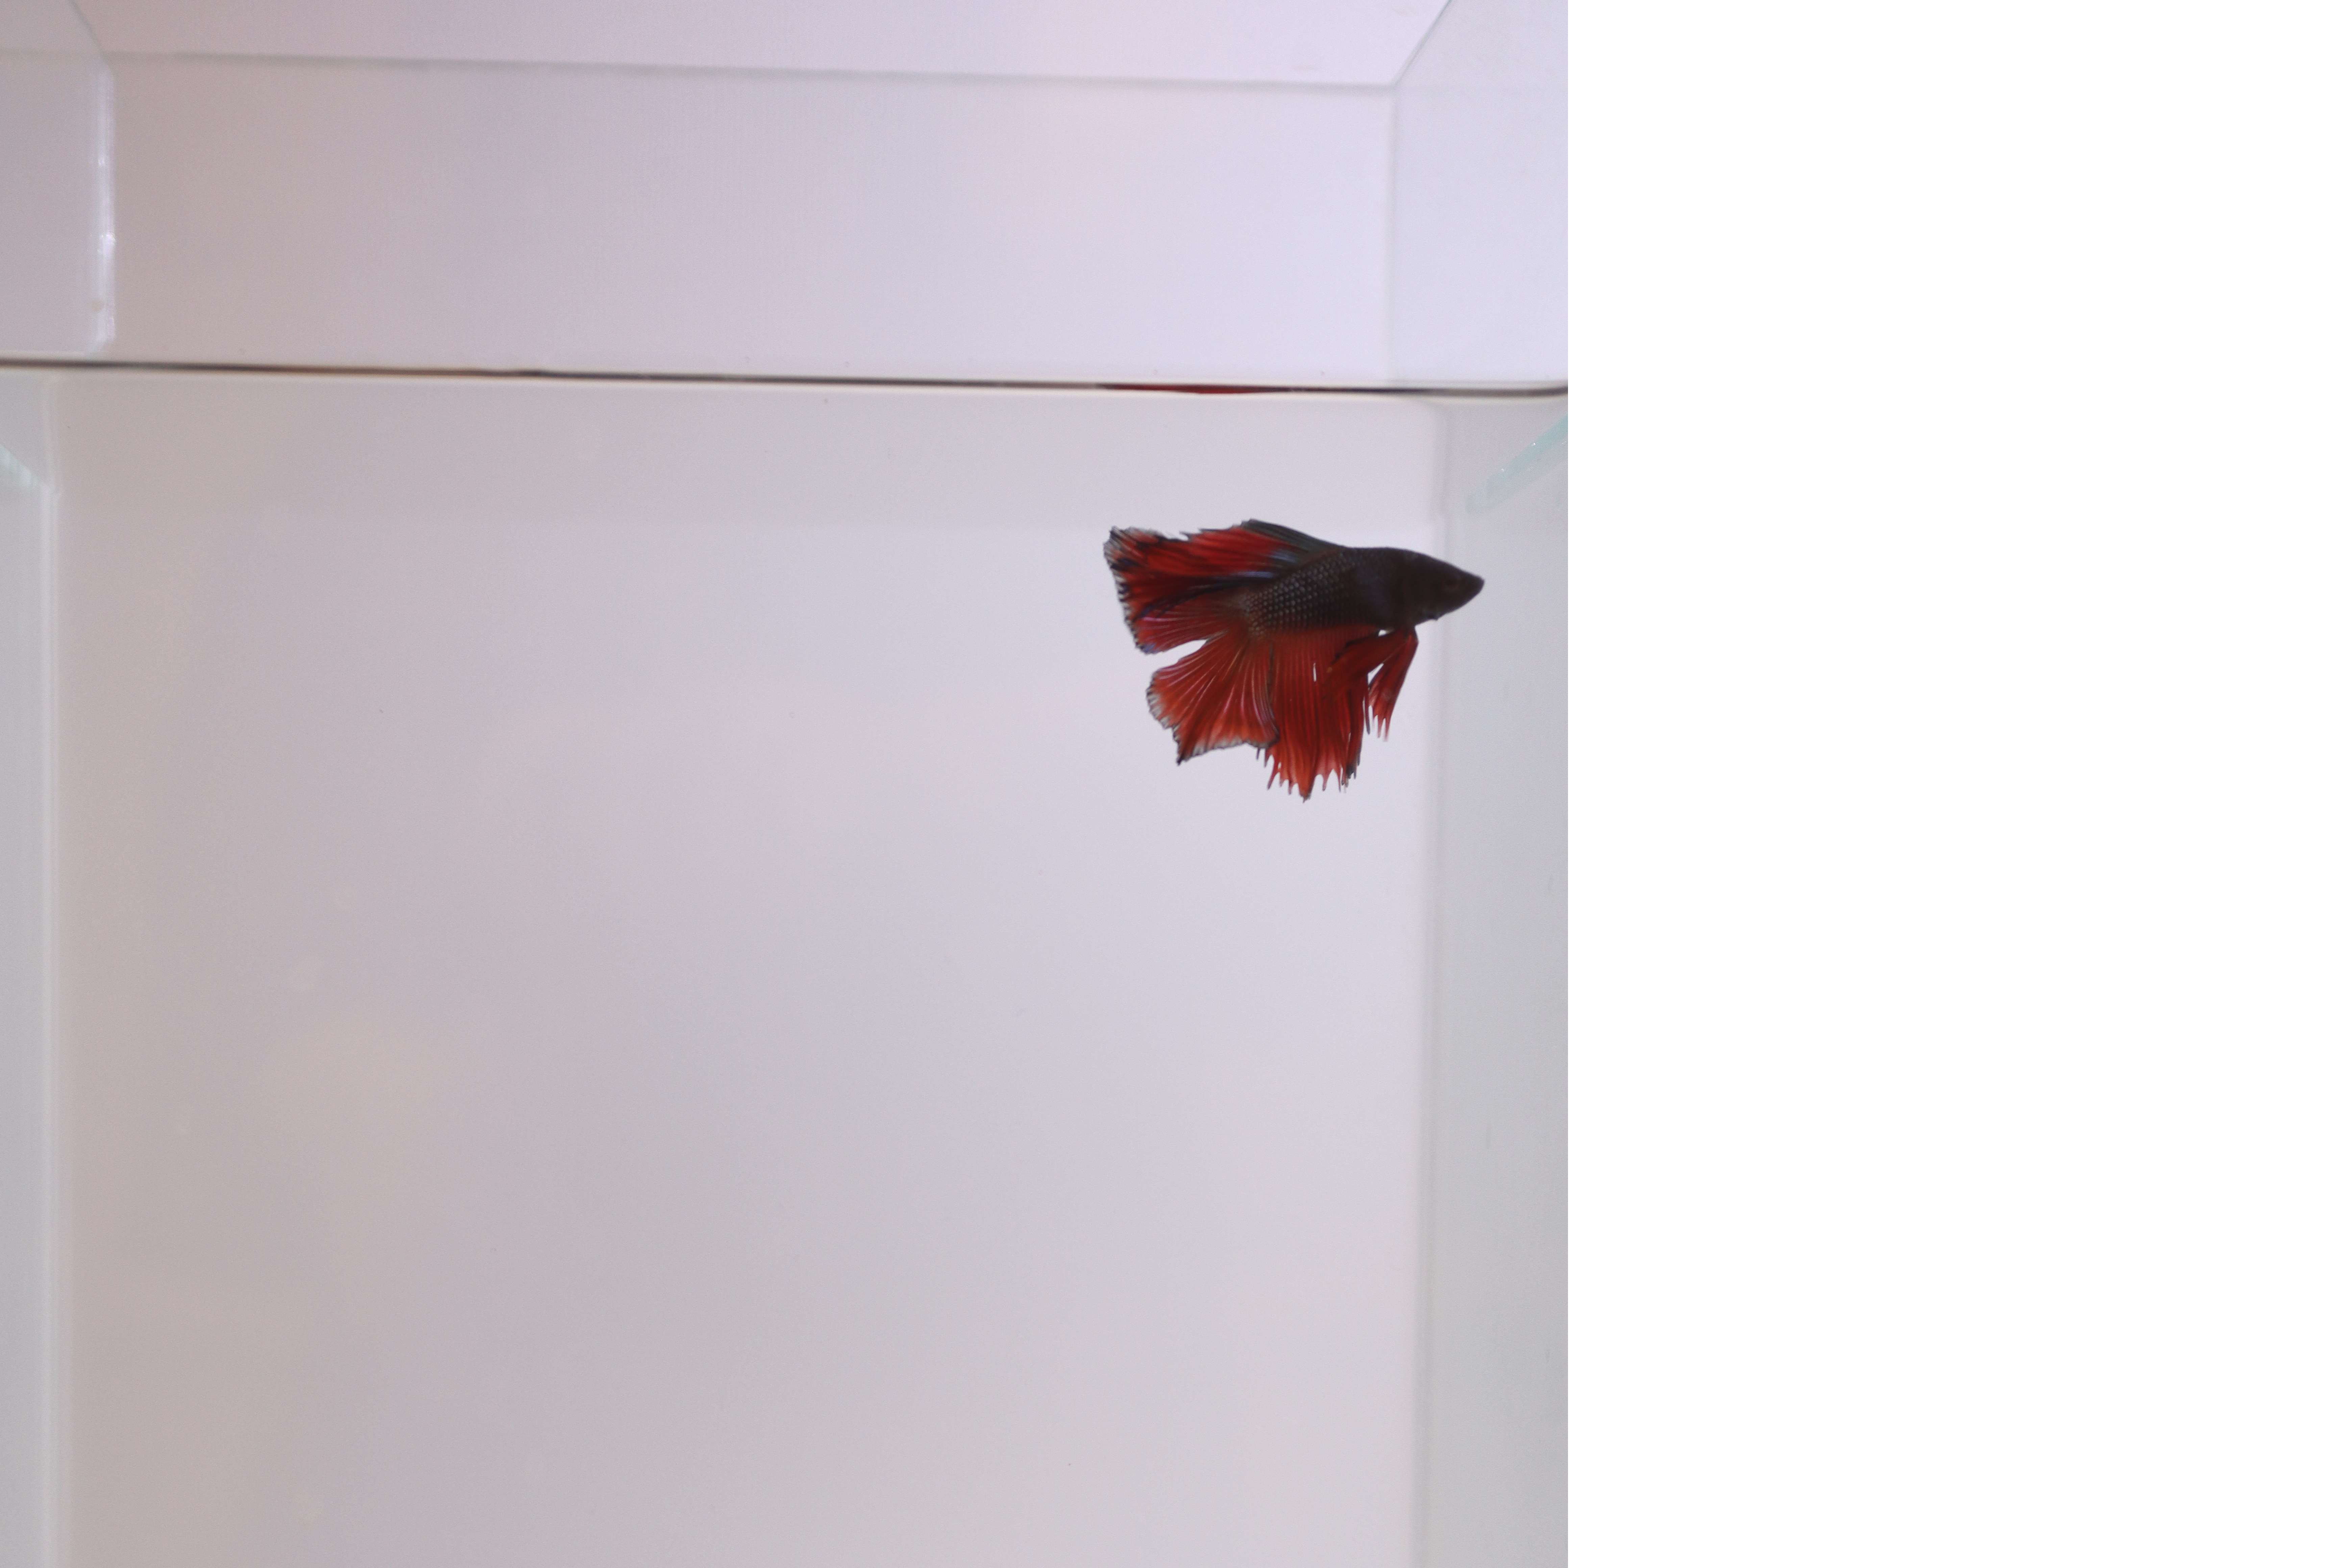fish: (1095, 509, 1494, 800)
